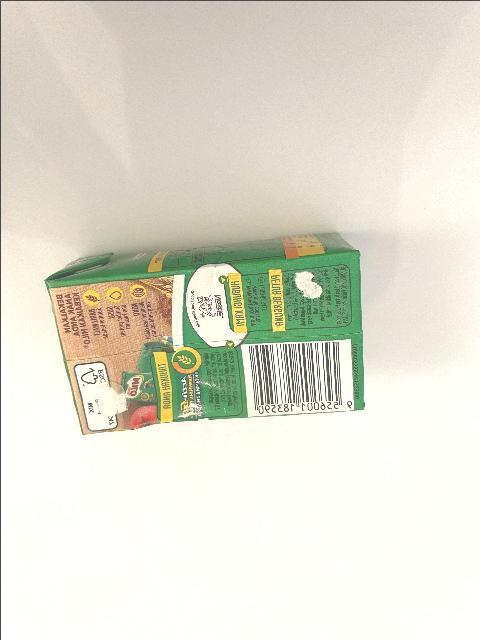drinkpack: (39, 229, 365, 435)
